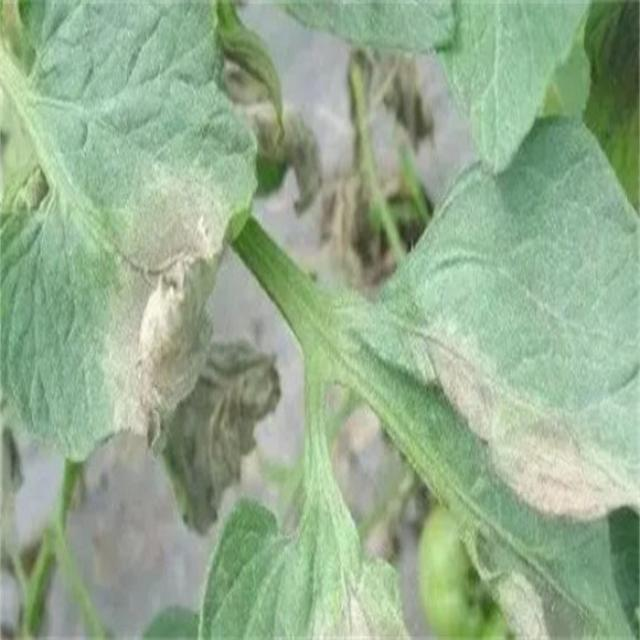Early_blight: (419, 318, 637, 529), (94, 166, 229, 448), (165, 342, 284, 536), (222, 63, 325, 218), (471, 551, 586, 640), (358, 47, 436, 156), (309, 571, 412, 640)
